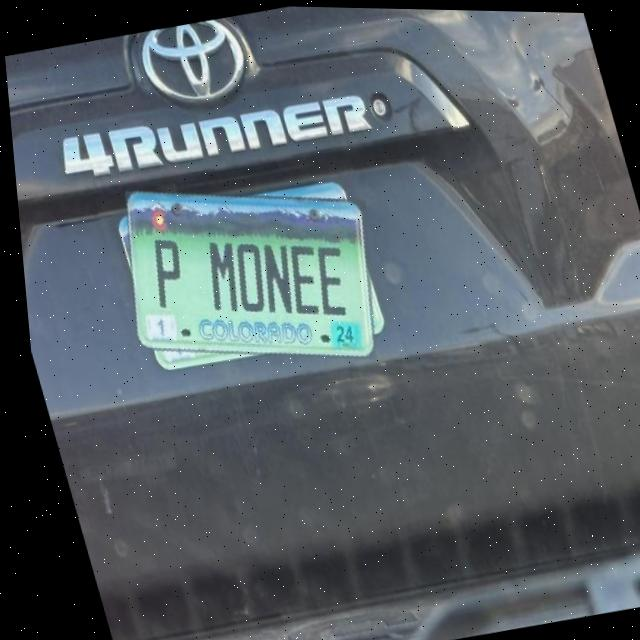LicensePlate: (123, 192, 371, 360)
